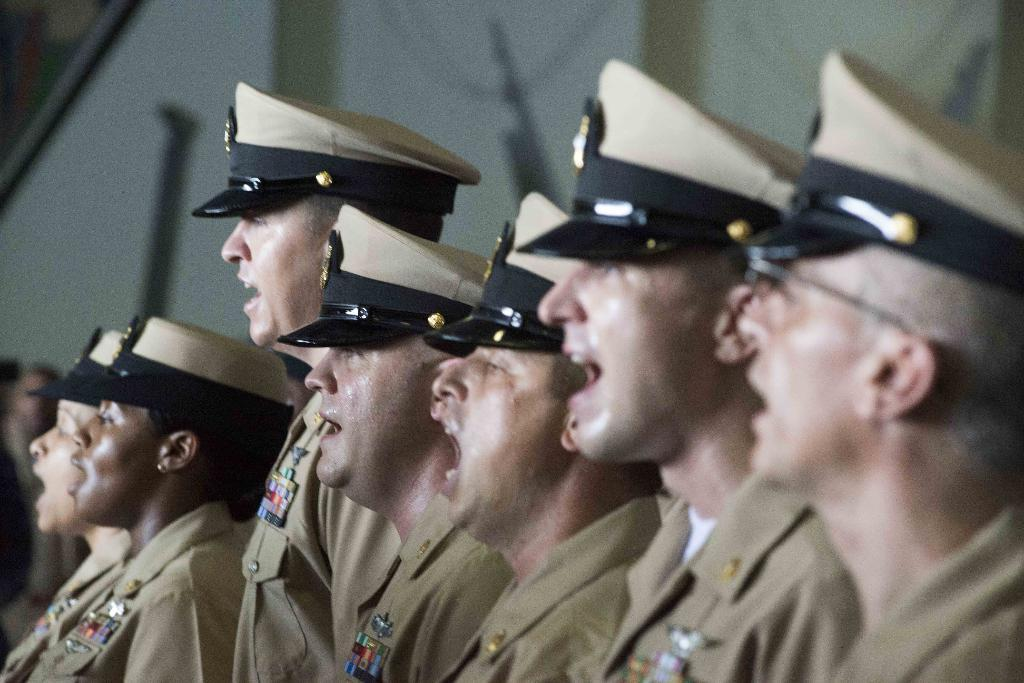Hat: (732, 54, 1022, 298), (514, 56, 812, 255), (189, 81, 481, 220), (274, 204, 492, 346), (72, 312, 298, 440), (438, 189, 588, 349), (28, 326, 130, 409)
